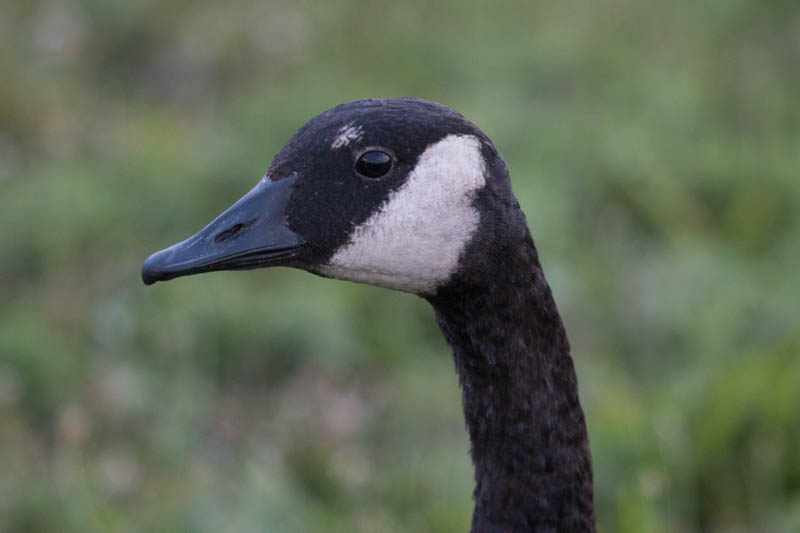goose-head: (140, 98, 514, 303)
